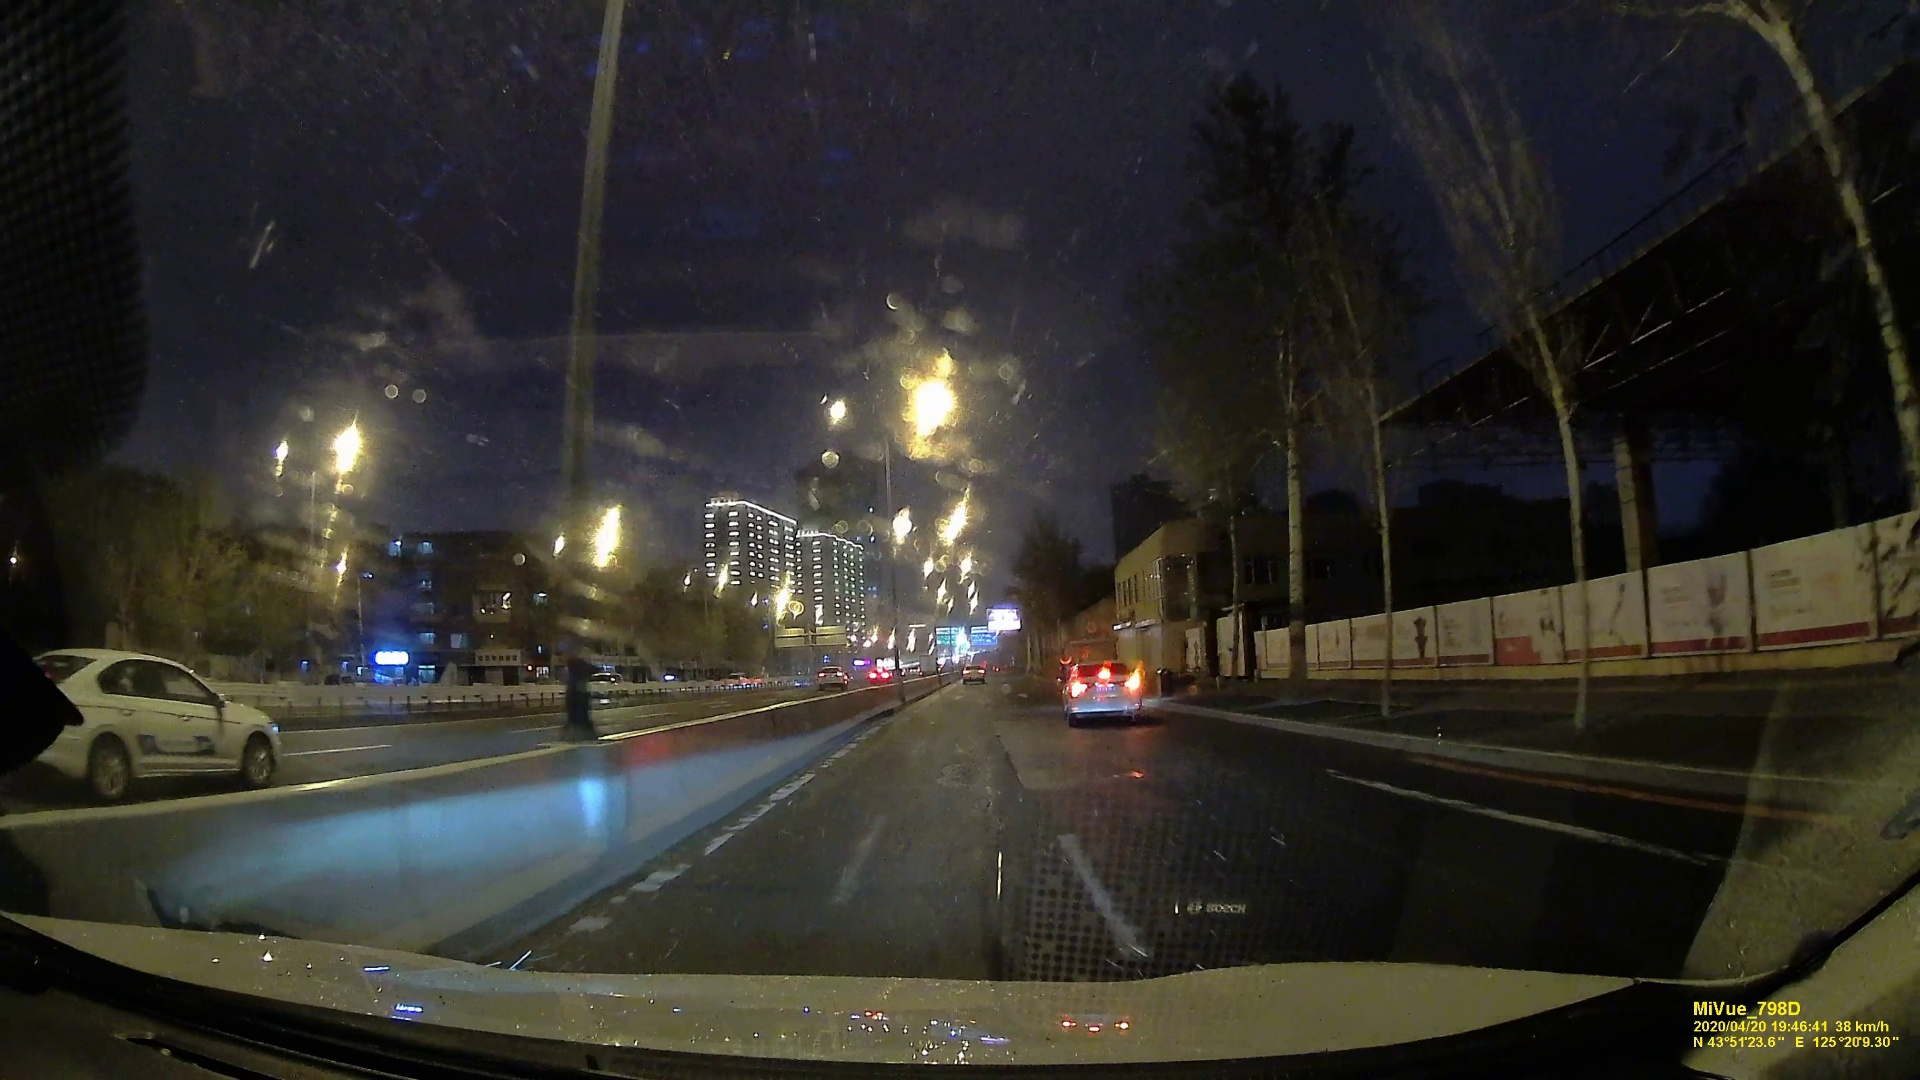traffic_sign: (934, 626, 960, 645), (971, 626, 997, 645)
vehicle: (25, 644, 289, 800), (1062, 659, 1142, 727), (816, 666, 848, 692), (963, 665, 984, 684), (869, 667, 889, 684)
